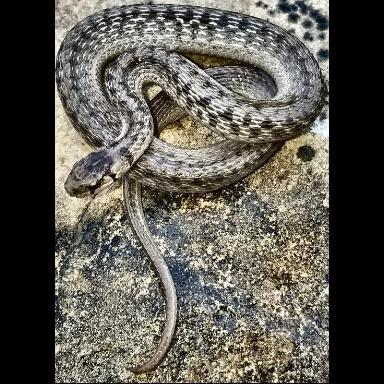snake: (57, 2, 326, 293)
